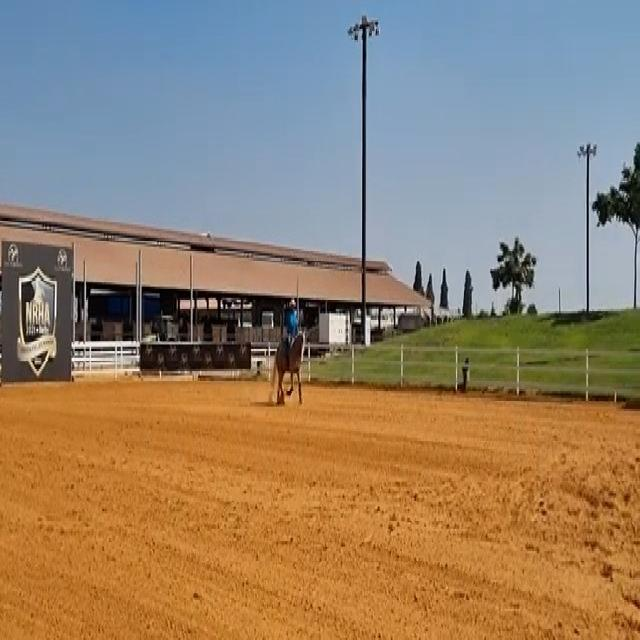horse: (269, 326, 306, 406)
